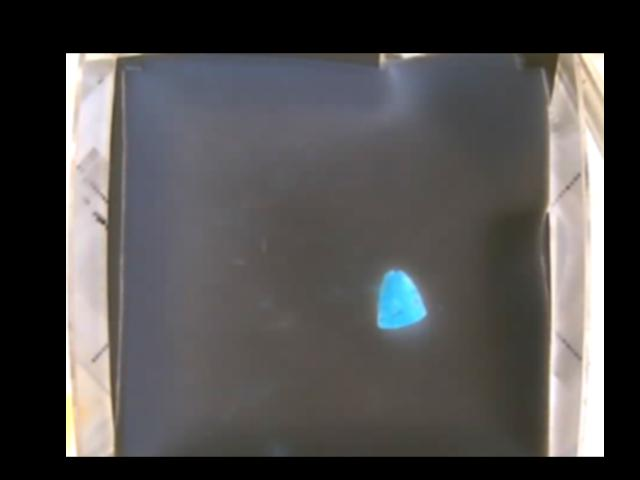Carrot: (377, 268, 427, 328)
